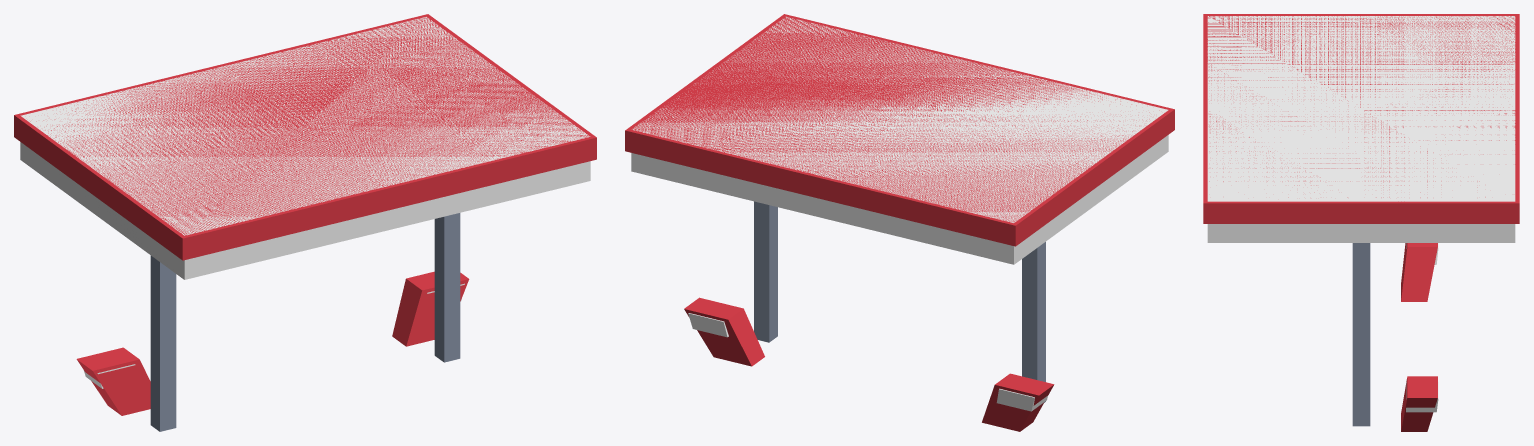
Rendered from canopy.glb.
3 renders of one model, left to right at view 1: azimuth 30°, elevation 25°; view 2: azimuth 150°, elevation 25°; view 3: azimuth 270°, elevation 25°, orthographic. The views are drawn at different scales.
Visible parts, largest first — view 1: canopy_red, canopy_white, canopy_metal; view 2: canopy_red, canopy_white, canopy_metal; view 3: canopy_white, canopy_red, canopy_metal.
Part boxes in pixels (box(x1,y1,x2,y2)): canopy_red: box(14, 14, 596, 415); canopy_white: box(20, 17, 590, 388); canopy_metal: box(150, 213, 460, 431); canopy_red: box(625, 14, 1174, 431); canopy_white: box(631, 16, 1168, 411); canopy_metal: box(754, 201, 1045, 402); canopy_white: box(1207, 16, 1515, 412); canopy_red: box(1203, 14, 1519, 431); canopy_metal: box(1352, 243, 1370, 426).
Bounding box in the file's own units: 10.61 × 6.5 × 7.49.
